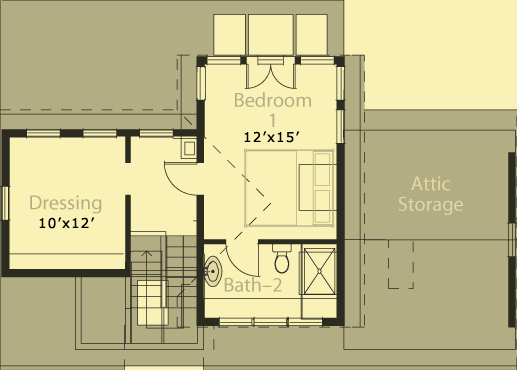this bathroom has a shower space, small and large sink: (196, 238, 346, 327)
this bedroom has a double bed: (196, 56, 340, 243)
